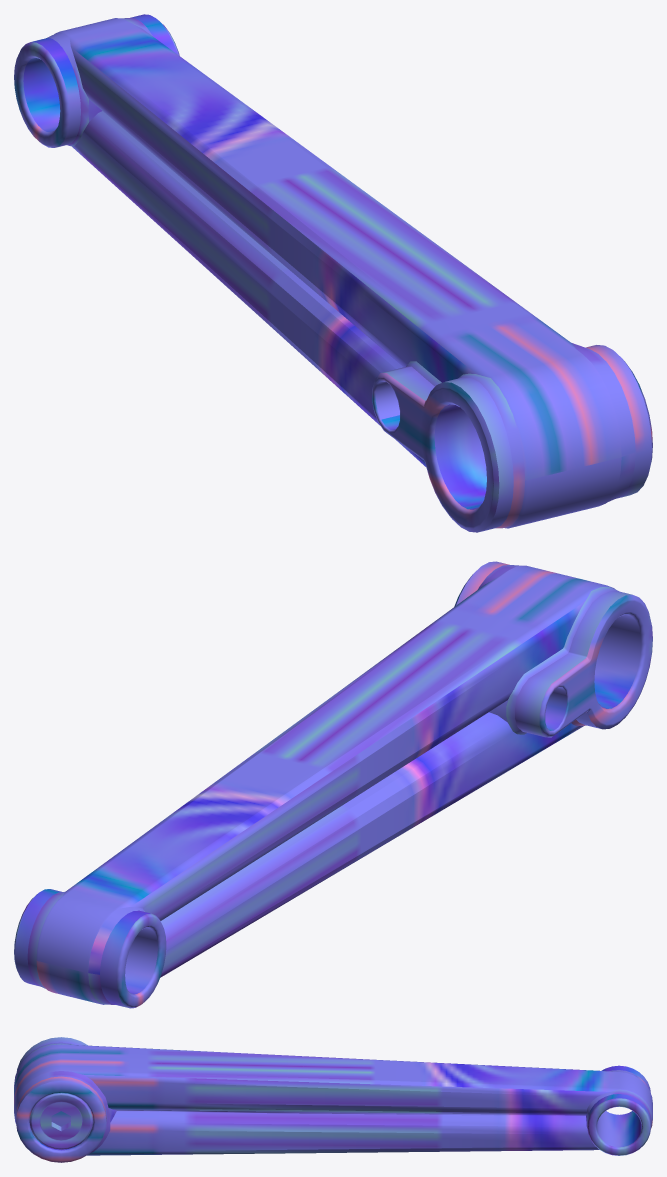
The model's file is BMX_CrankArm_Ulysses_Legend 175mm.fbx.
3 views of the same model, one above another, from view 1: azimuth 30°, elevation 25°; view 2: azimuth 150°, elevation 25°; view 3: azimuth 270°, elevation 25° (orthographic). The views are drawn at different scales.
Parts seen in each view (by area): view 1: BMX_CrankArm_Ulysses_Legend_175mm; view 2: BMX_CrankArm_Ulysses_Legend_175mm; view 3: BMX_CrankArm_Ulysses_Legend_175mm.
Boxes of the visible parts, box(x1,y1,x2,y2) form: BMX_CrankArm_Ulysses_Legend_175mm: box(14, 14, 652, 532); BMX_CrankArm_Ulysses_Legend_175mm: box(14, 561, 652, 1008); BMX_CrankArm_Ulysses_Legend_175mm: box(14, 1037, 652, 1162).
Size of the model in its own units: 3.76 by 2.96 by 20.04.
Materials: 1 (1 with a texture image).
